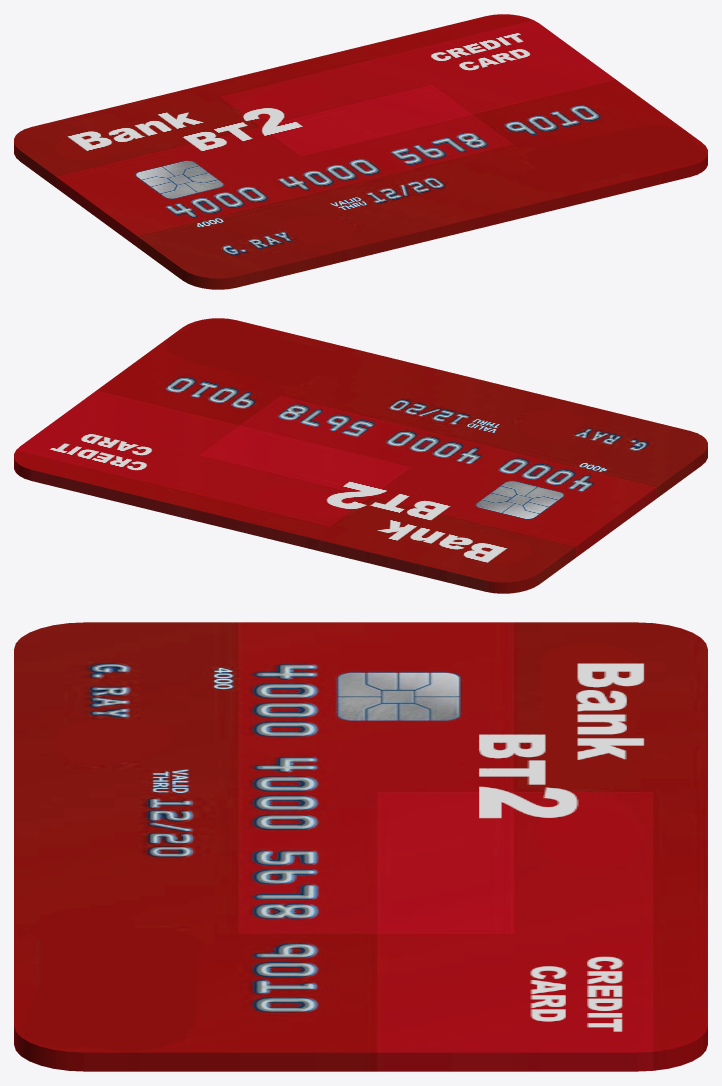
File: Credit card 2.FBX
3 renders of one model, top to bottom at view 1: azimuth 30°, elevation 25°; view 2: azimuth 150°, elevation 25°; view 3: azimuth 270°, elevation 25°, orthographic. The views are drawn at different scales.
Parts seen in each view (by area): view 1: Credit card 2; view 2: Credit card 2; view 3: Credit card 2.
Part boxes in pixels (<box>): Credit card 2: <box>14,14,707,289</box>; Credit card 2: <box>14,318,707,593</box>; Credit card 2: <box>14,622,707,1071</box>.
Bounding box in the file's own units: 9.09 × 0.1873 × 6.2.
1 material, 1 textured.
